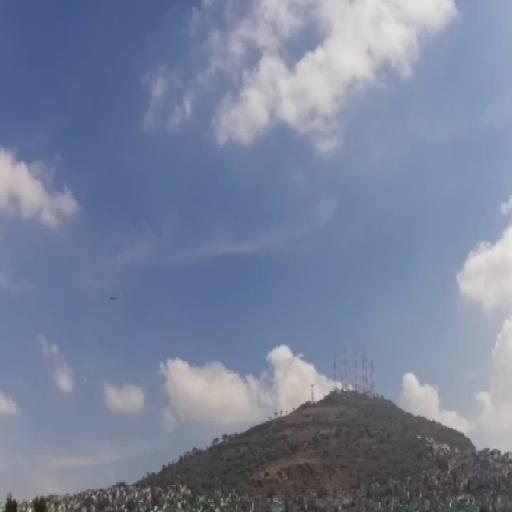drones: (108, 292, 121, 304)
